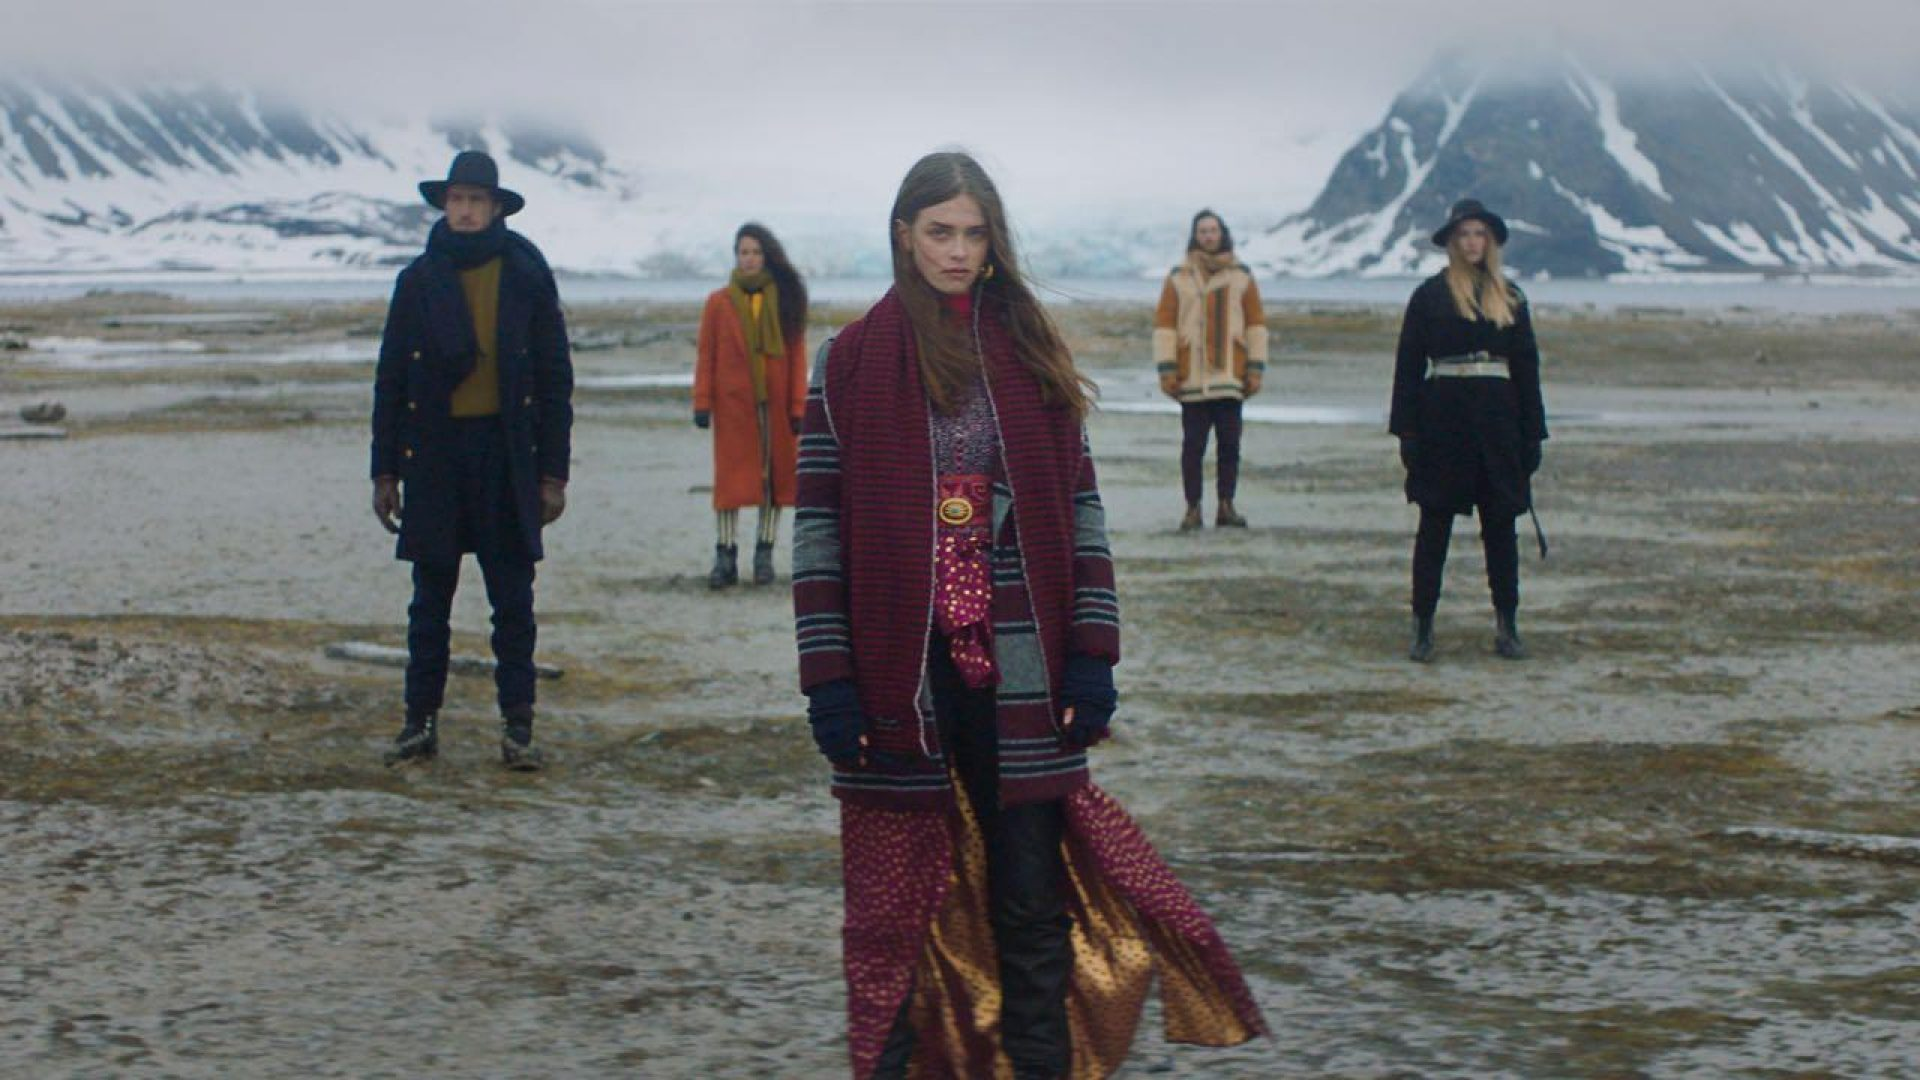Person: (796, 155, 1121, 1080), (372, 151, 573, 765), (1384, 200, 1551, 666), (695, 221, 807, 588), (1151, 211, 1269, 534)
